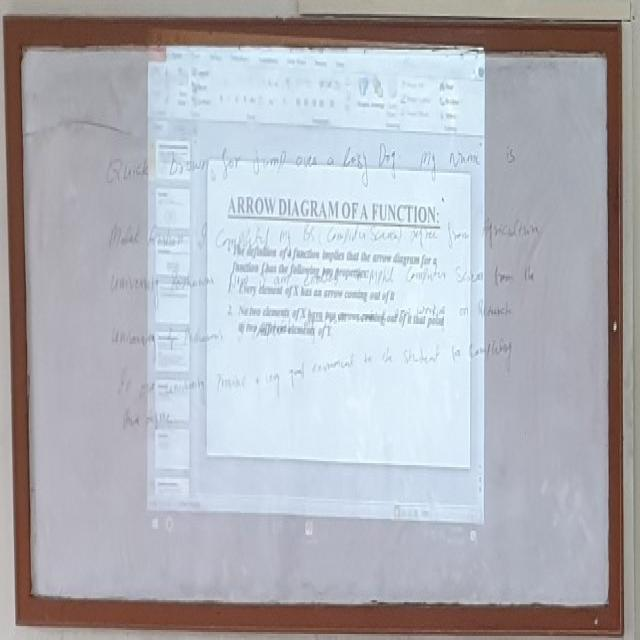Slide: (145, 32, 487, 546)
White-board: (15, 29, 619, 618)
